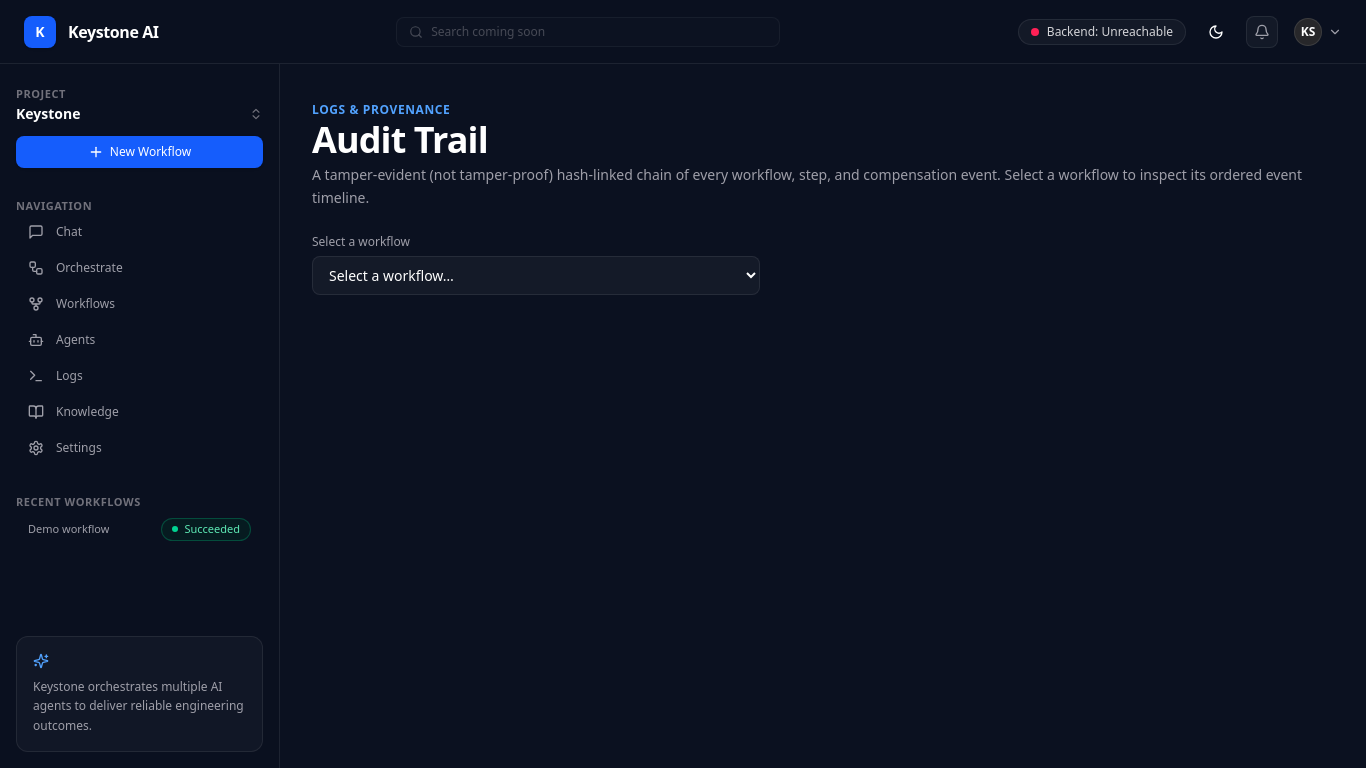
it: LogsPage › shows the valid audit-chain state
Select "Demo workflow (succeeded)" in the dropdown labelled "Select a workflow" at x=536, y=275, box [312, 256, 760, 294]
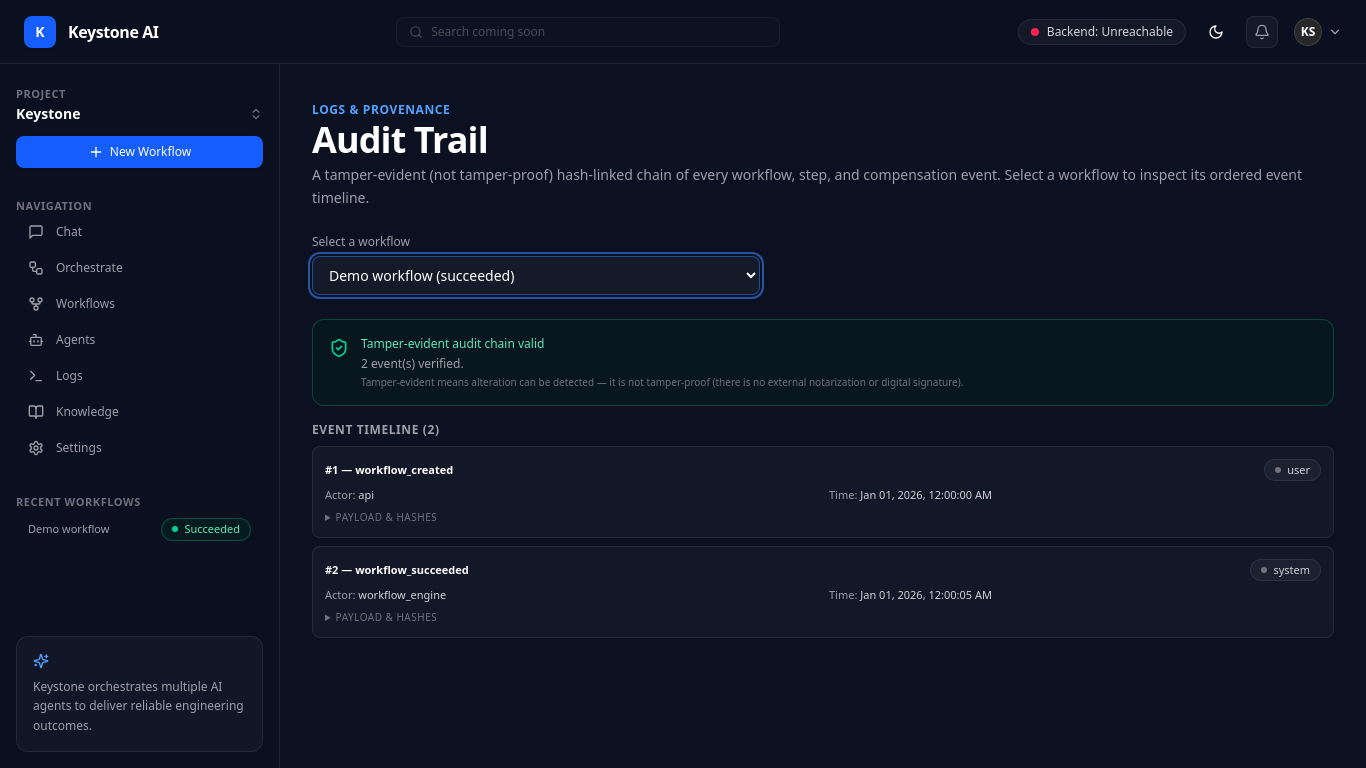
Now the text "Tamper-evident audit chain valid" is shown, box [361, 334, 544, 352]
